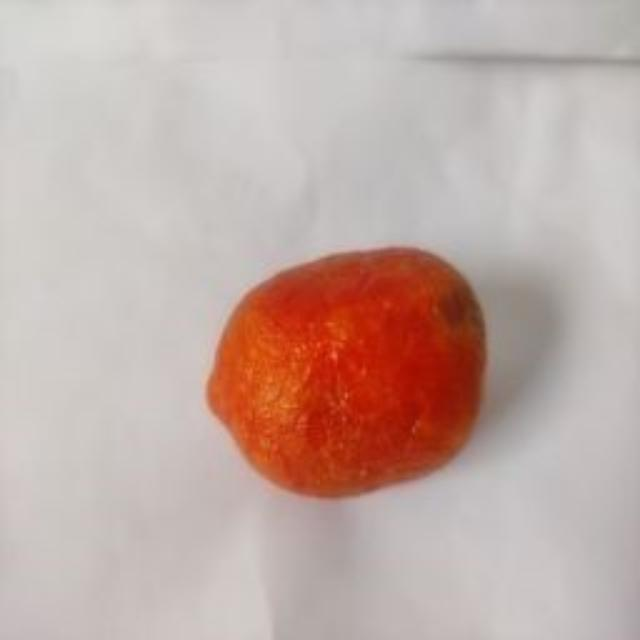defect: (202, 242, 491, 498)
